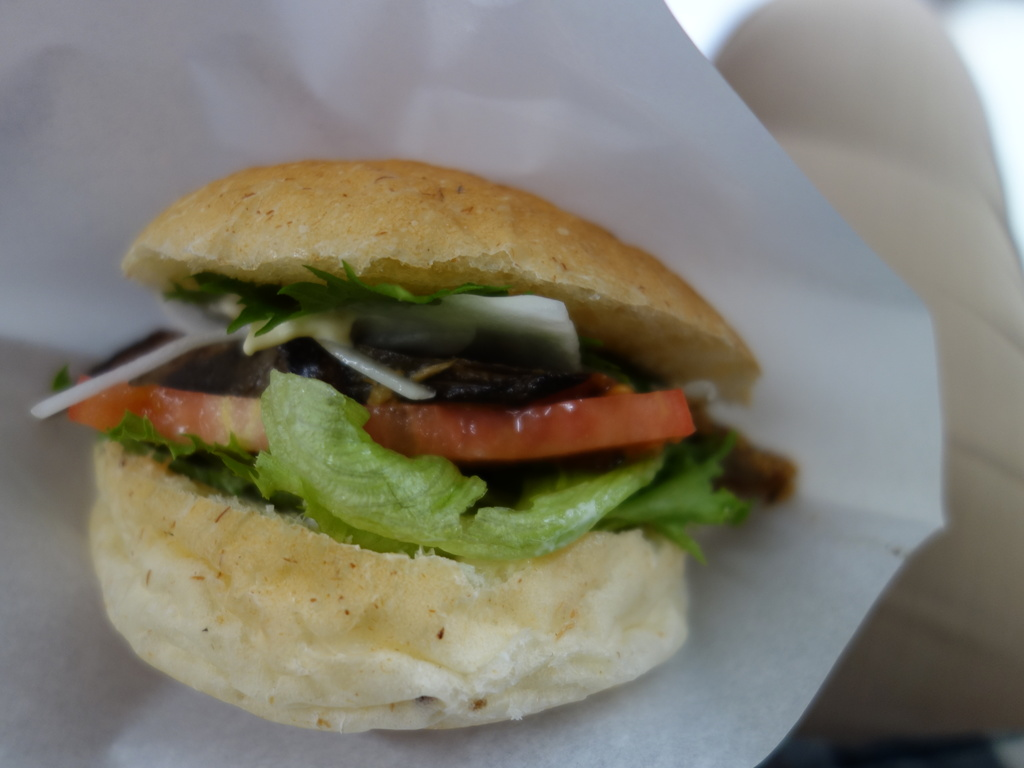Hamburger: (35, 156, 797, 734)
